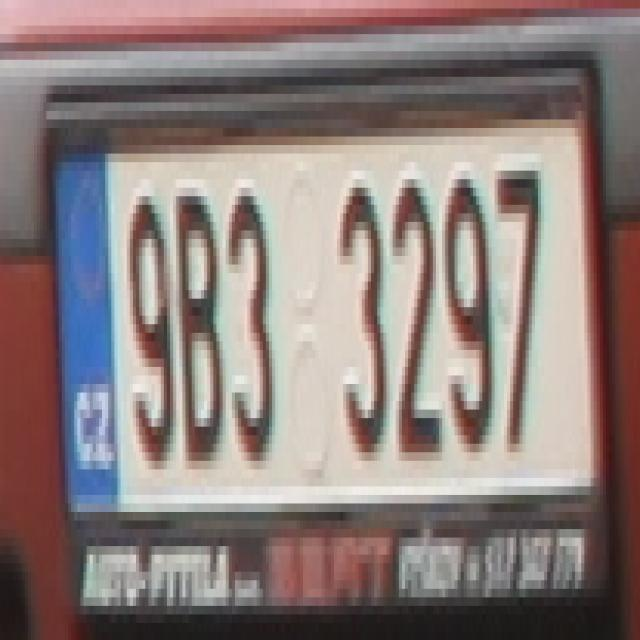2: (390, 179, 442, 461)
3: (340, 170, 387, 444), (222, 179, 272, 435)
7: (492, 162, 542, 444)
9: (442, 170, 492, 444), (126, 188, 174, 452)
B: (176, 188, 226, 461)
